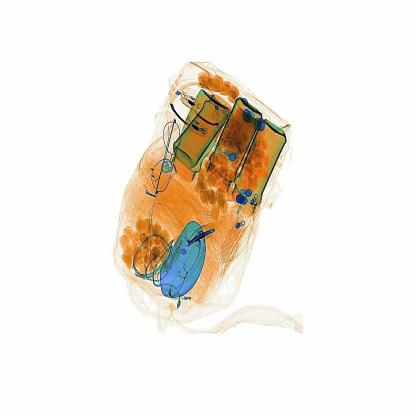pliers: (184, 216, 221, 247)
